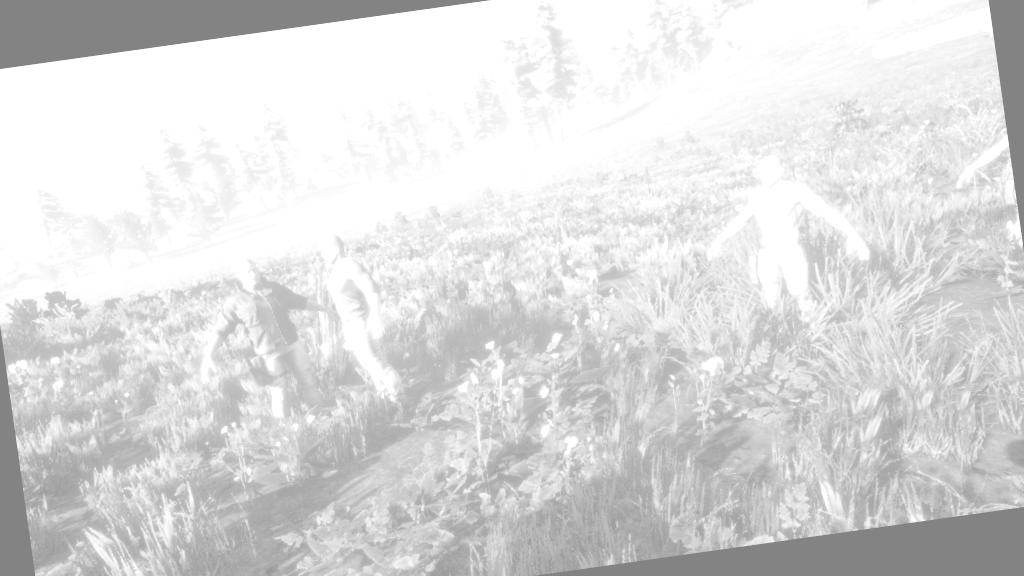human: (163, 224, 348, 456), (300, 210, 438, 422)
